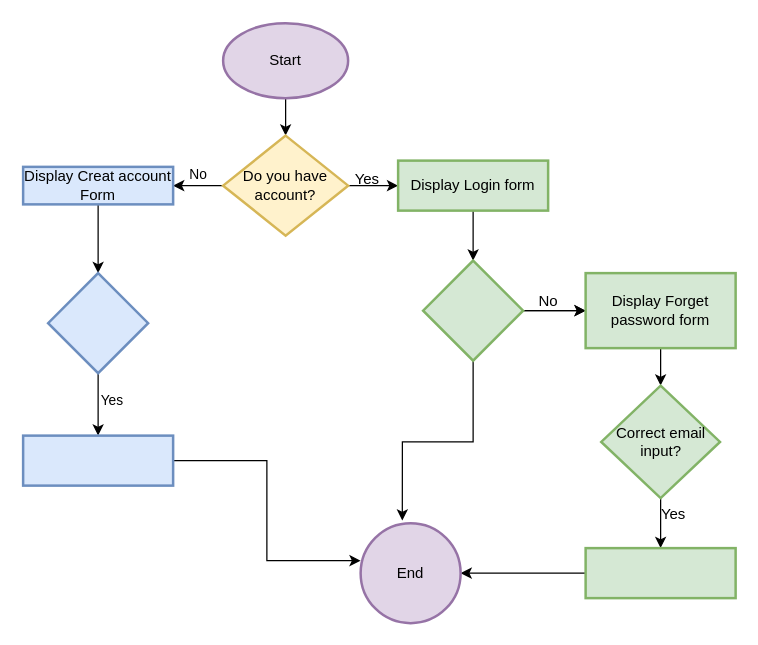
The diagram is 758 pixels wide and 645 high, and some of its shapes have lost their labels. Here are the shapes that lost their labels. From the top down, the centre of each, then its label:
At pixel 97 322: "Correct inputs?".
At pixel 472 310: "Valid Login inputs".
At pixel 97 460: "Display created account and Login page".
At pixel 660 572: "Reset password and Login".
